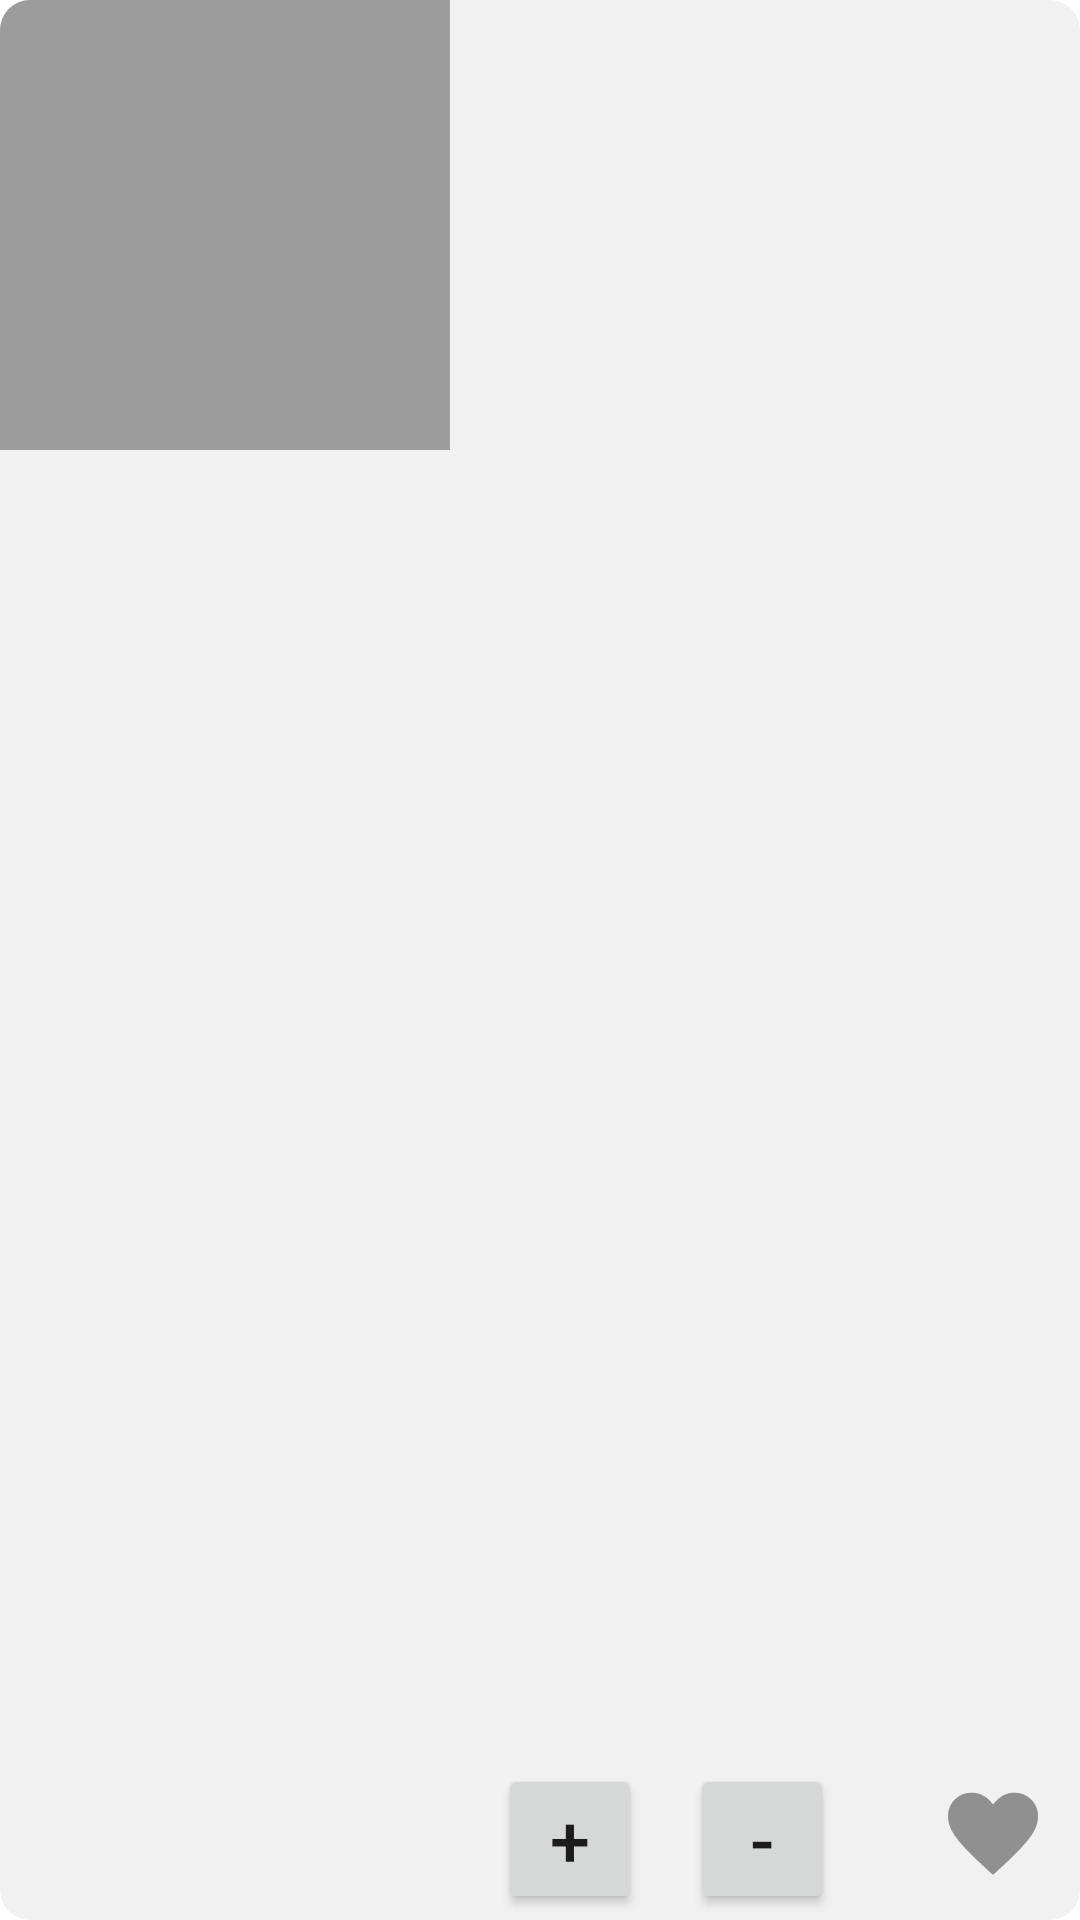

Icons on this 1080×1920 Android screen, each with its box as (x1, y1, x2, y2):
toggle like recipe: (948, 1793, 1038, 1875)
